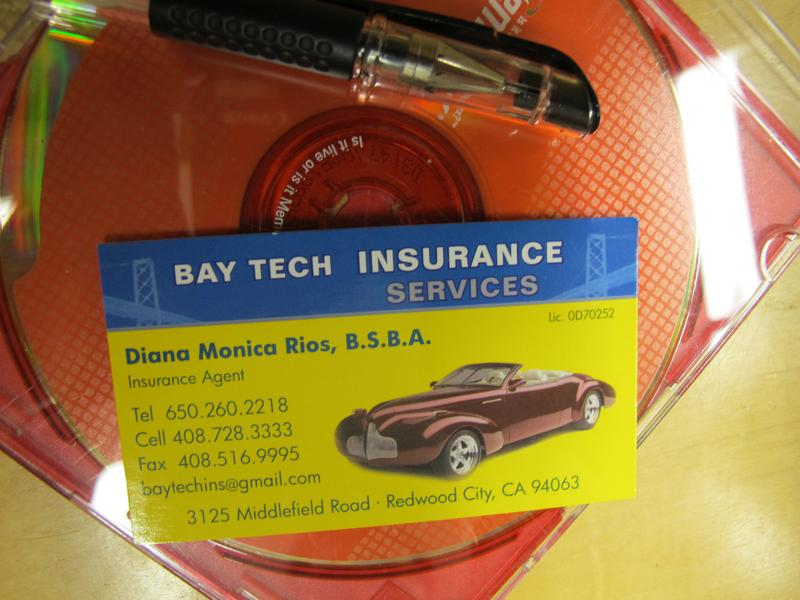card: (95, 220, 645, 544)
